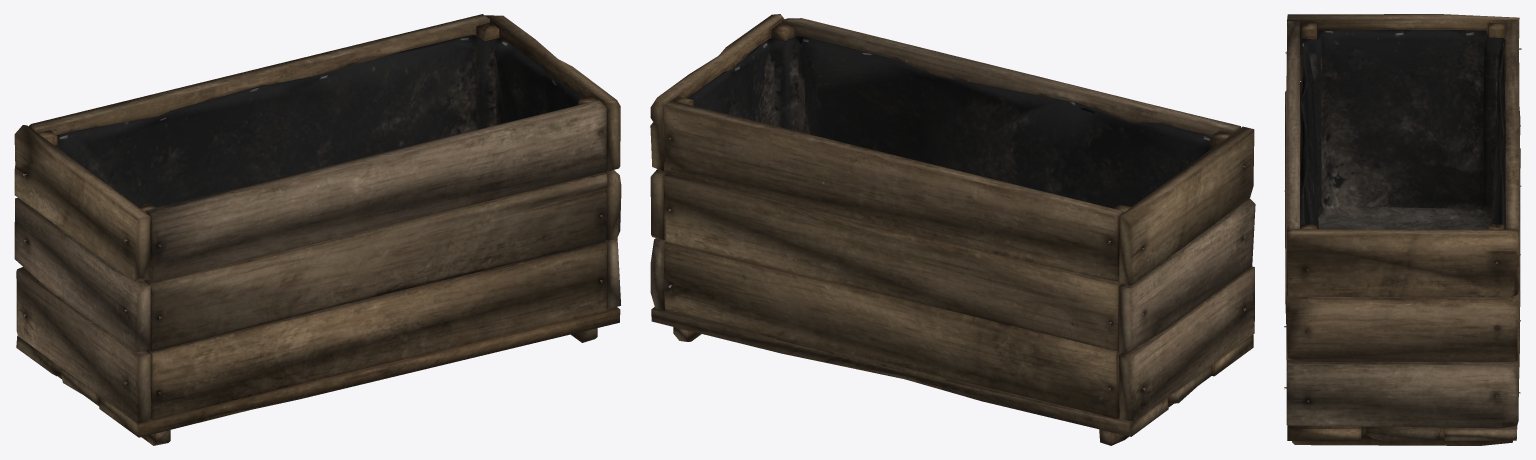
File: PlanterBoxLOD1.fbx
3 renders of one model, left to right at view 1: azimuth 30°, elevation 25°; view 2: azimuth 150°, elevation 25°; view 3: azimuth 270°, elevation 25°, orthographic. The views are drawn at different scales.
Parts seen in each view (by area): view 1: planter_box_01; view 2: planter_box_01; view 3: planter_box_01.
Part boxes in pixels (<box>): planter_box_01: <box>14,14,621,445</box>; planter_box_01: <box>650,14,1255,445</box>; planter_box_01: <box>1284,14,1521,445</box>.
Bounding box in the file's own units: 91.15 × 42.41 × 41.19.
1 material, 1 textured.
